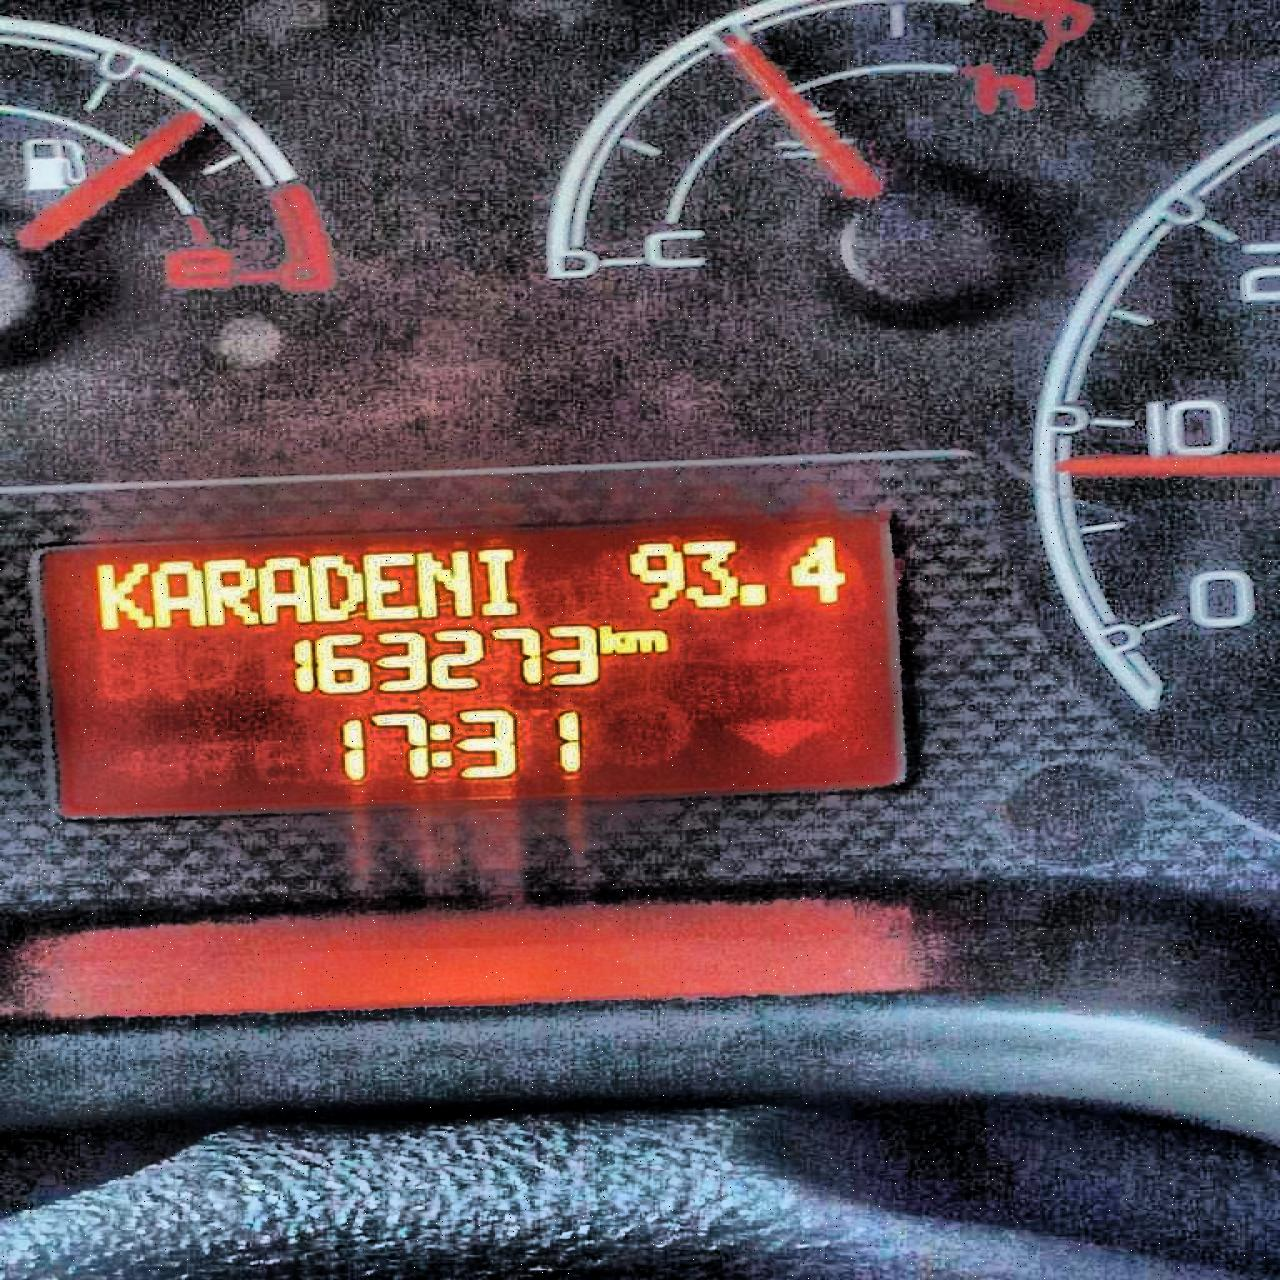-: (735, 579, 768, 610)
1: (545, 703, 587, 776), (332, 712, 366, 784), (285, 635, 313, 695)
2: (427, 626, 486, 692)
3: (451, 703, 520, 783), (683, 537, 737, 612), (370, 627, 427, 694), (545, 622, 597, 687)
4: (785, 531, 846, 606)
6: (313, 629, 368, 695)
7: (367, 709, 427, 782), (485, 624, 542, 688)
9: (621, 539, 683, 611)
X: (90, 557, 151, 633), (417, 545, 475, 619), (362, 546, 415, 622), (309, 550, 363, 624), (256, 552, 309, 626), (150, 556, 203, 629), (205, 557, 257, 628), (477, 544, 517, 618), (624, 625, 668, 655), (428, 719, 451, 771), (597, 621, 624, 656)
odometer: (16, 508, 924, 830)
